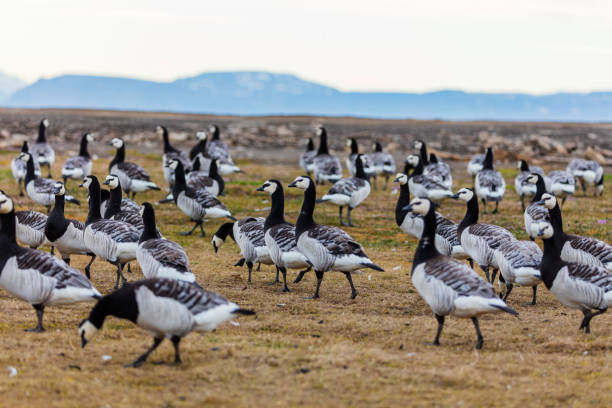goose: (403, 196, 509, 358), (75, 279, 257, 372), (1, 186, 102, 345), (292, 175, 372, 307), (530, 222, 612, 335), (137, 198, 199, 292), (537, 192, 612, 268), (255, 175, 304, 291), (80, 175, 136, 272), (167, 157, 227, 241), (206, 213, 274, 284), (454, 187, 513, 267), (394, 170, 454, 247), (489, 240, 548, 310), (44, 183, 84, 268), (325, 153, 374, 219), (110, 133, 154, 201), (18, 148, 64, 204), (411, 137, 446, 210), (62, 129, 99, 194), (520, 170, 554, 240), (28, 117, 62, 180), (477, 142, 506, 215), (207, 121, 240, 180), (311, 125, 343, 183), (102, 174, 139, 224), (564, 155, 607, 198), (7, 138, 36, 195), (153, 122, 183, 172), (512, 158, 547, 200), (197, 151, 227, 200), (369, 136, 396, 184), (342, 135, 370, 177), (426, 151, 456, 186), (547, 168, 577, 200), (183, 152, 206, 192), (189, 129, 212, 166), (302, 132, 320, 176)
